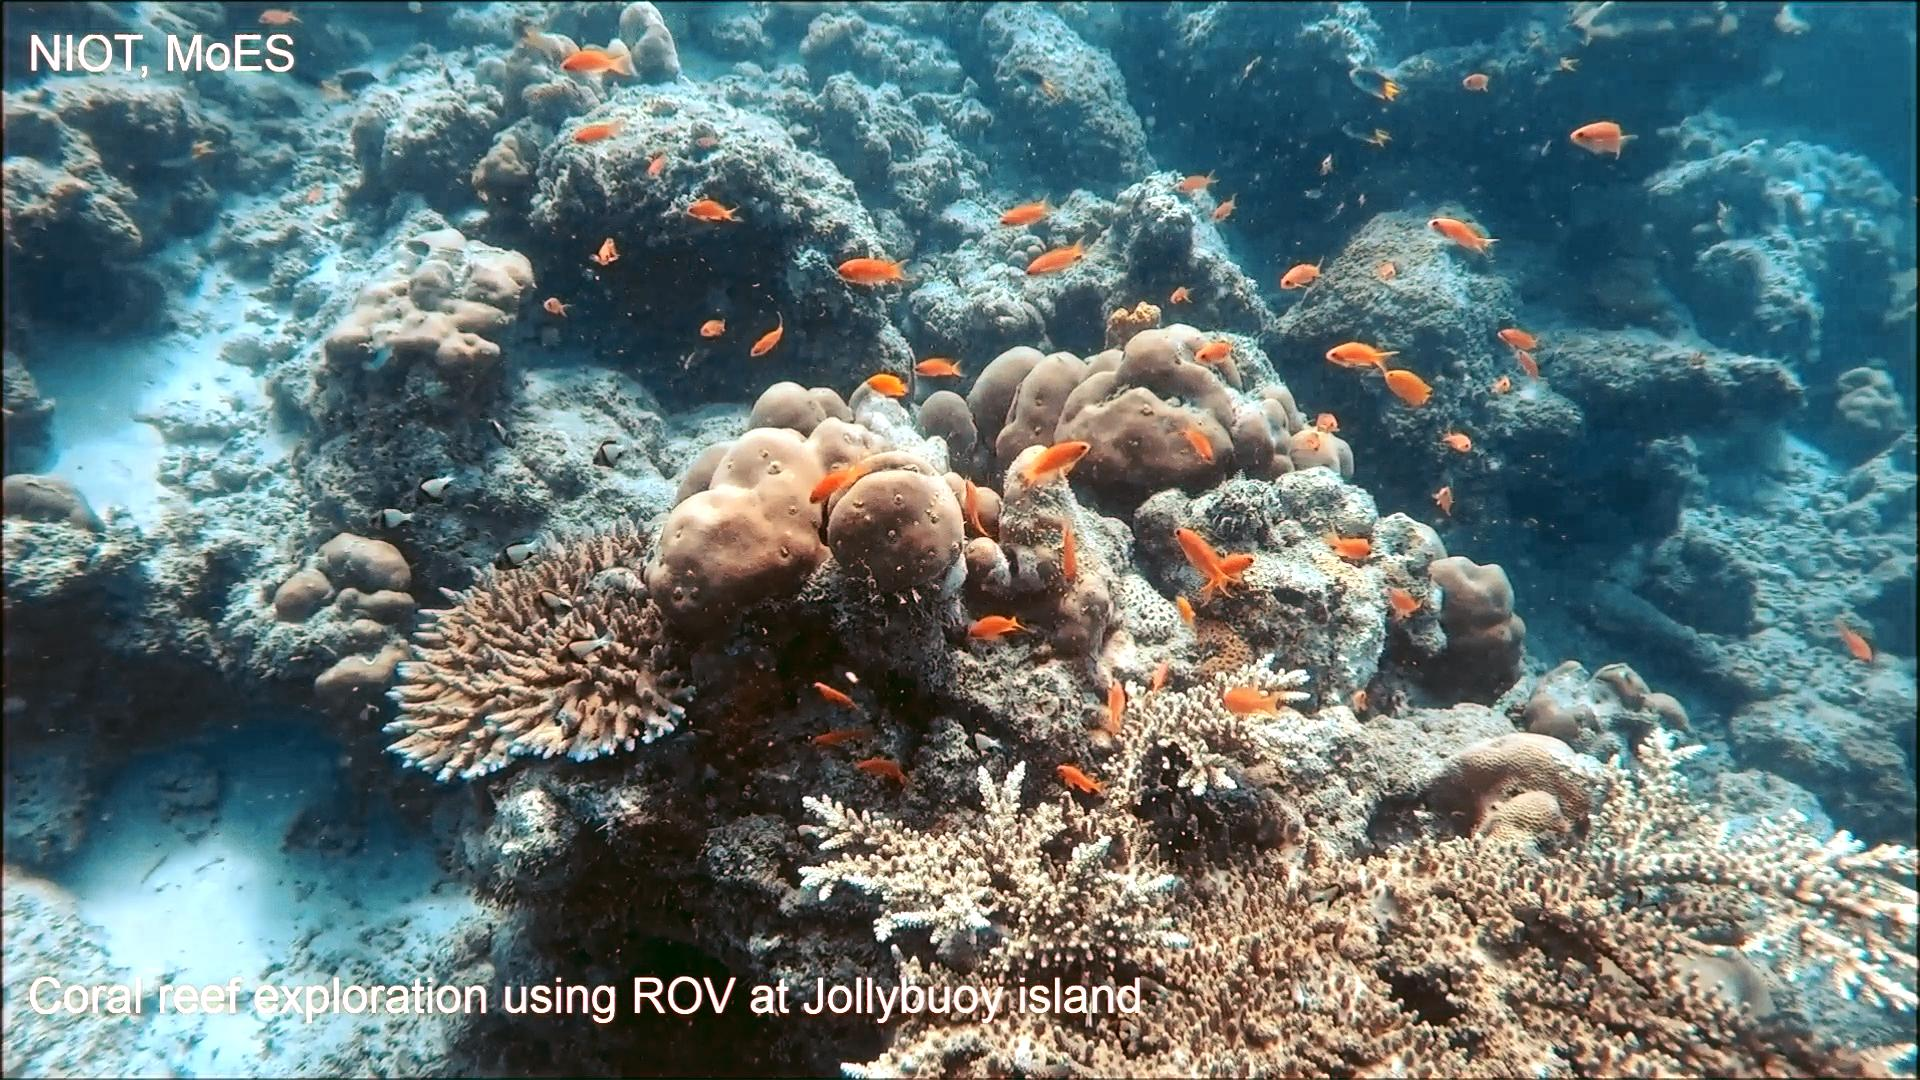Porites-Porites pukoensis: (640, 372, 973, 646), (944, 318, 1358, 500)
